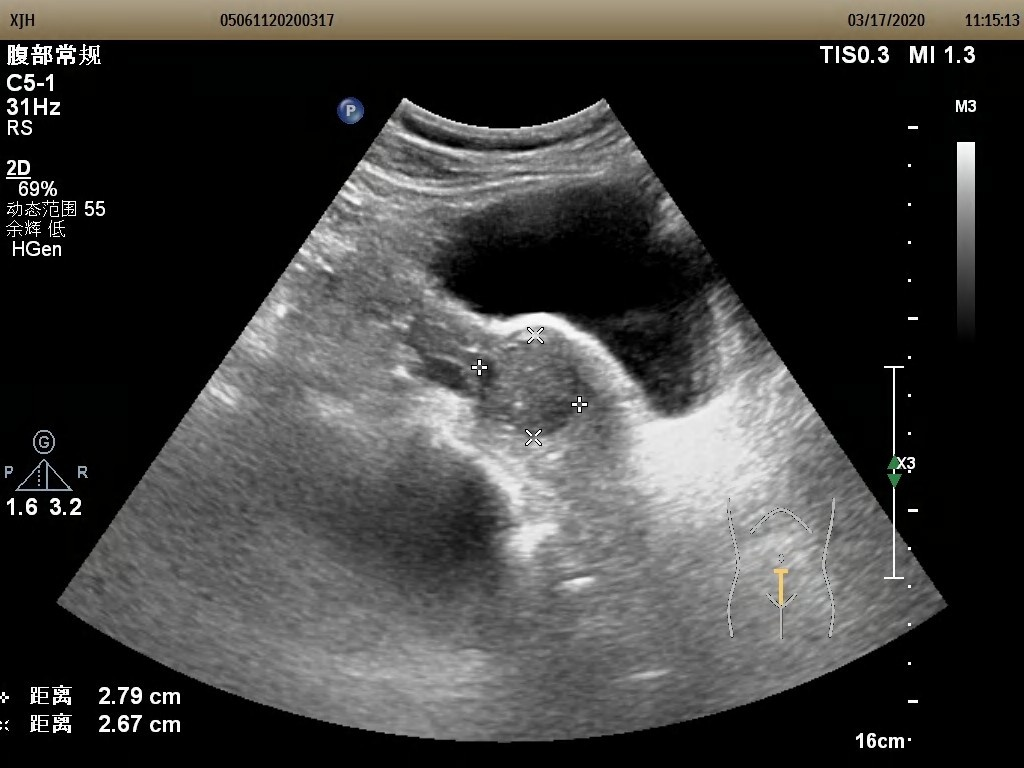肌瘤: (478, 335, 580, 437)
